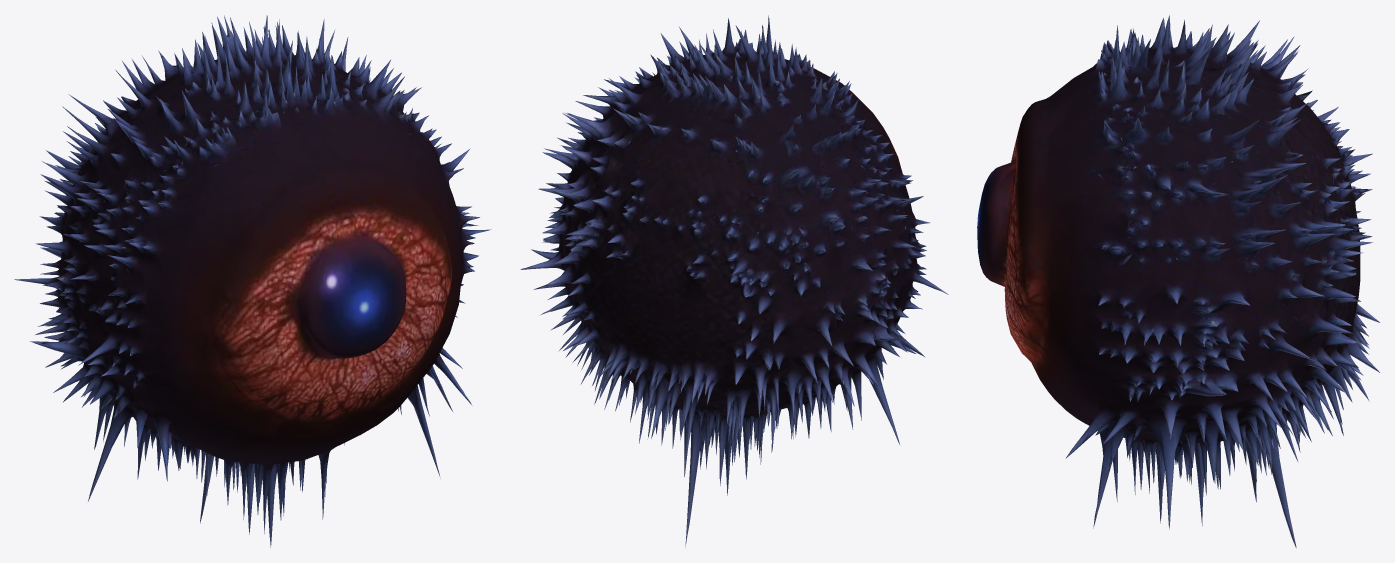
The model's file is blood-eye.glb.
3 renders of one model, left to right at view 1: azimuth 30°, elevation 25°; view 2: azimuth 150°, elevation 25°; view 3: azimuth 270°, elevation 25°, orthographic. The views are drawn at different scales.
Bounding box in the file's own units: 1.55 × 1.89 × 1.32.
1 material, 1 textured.
